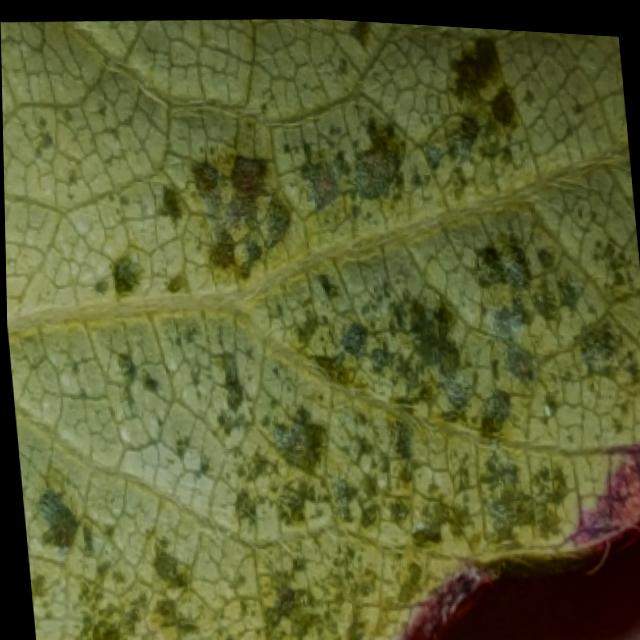Angular Leafspot: (2, 16, 640, 640)
